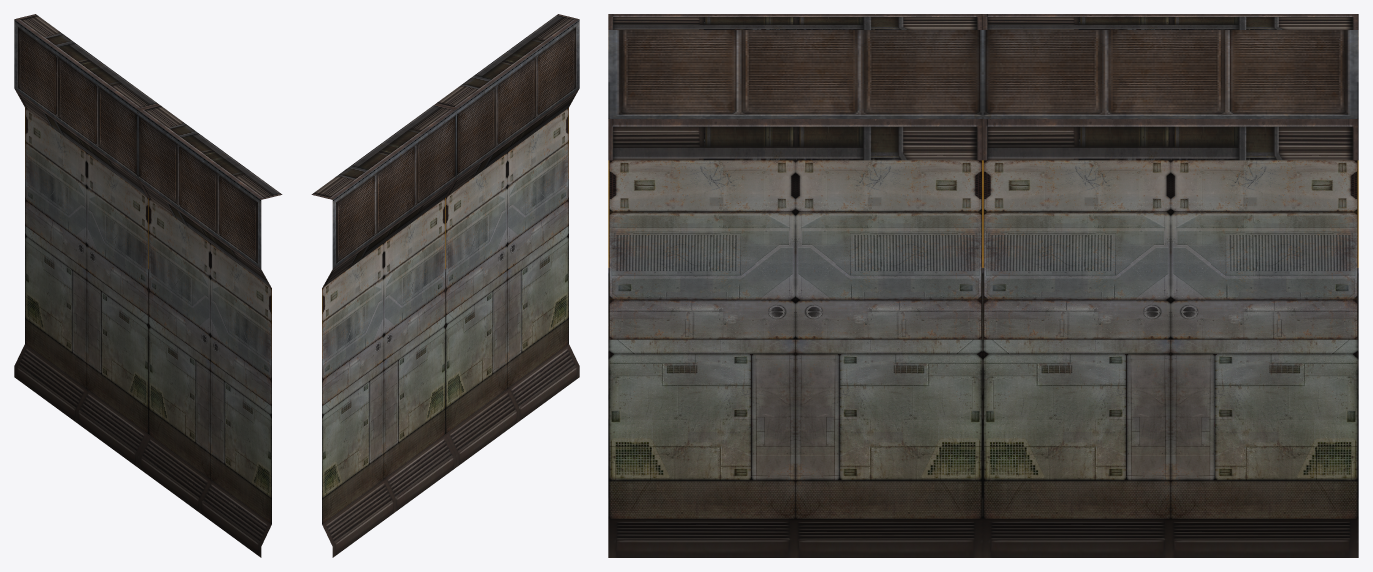
Rendered from ARC_Wall_High_01.FBX.
3 renders of one model, left to right at view 1: azimuth 30°, elevation 25°; view 2: azimuth 150°, elevation 25°; view 3: azimuth 270°, elevation 25°, orthographic. The views are drawn at different scales.
Visible parts, largest first — view 1: ARC_Wall_High_01; view 2: ARC_Wall_High_01; view 3: ARC_Wall_High_01.
Part boxes in pixels (<box>): ARC_Wall_High_01: <box>14,14,282,557</box>; ARC_Wall_High_01: <box>311,14,579,557</box>; ARC_Wall_High_01: <box>608,14,1358,557</box>.
Bounding box in the file's own units: 25 × 400 × 500.
Materials: 1 (1 with a texture image).
